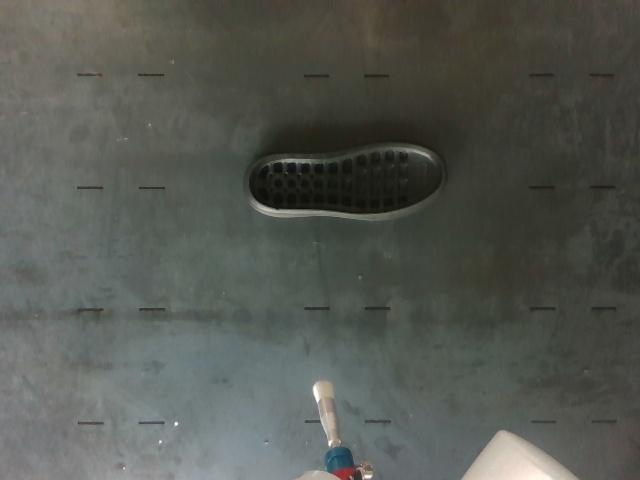shoes: (248, 145, 443, 214)
